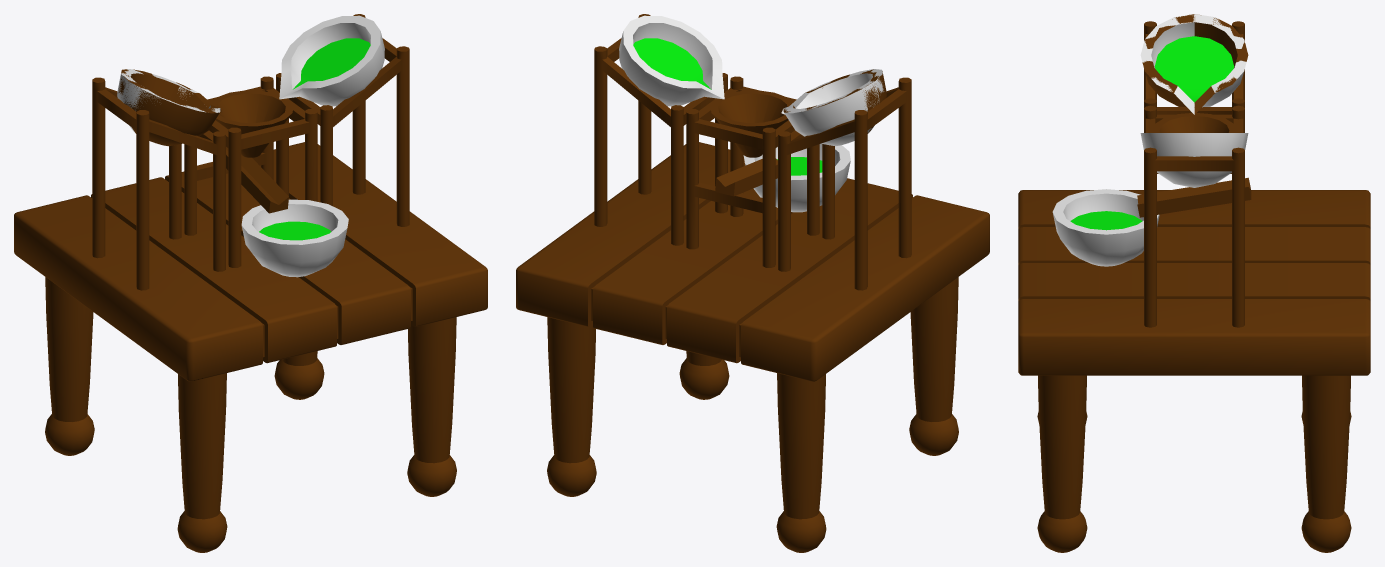
File: Mischstation.fbx
The picture shows the model from 3 angles, left to right: view 1: azimuth 30°, elevation 25°; view 2: azimuth 150°, elevation 25°; view 3: azimuth 270°, elevation 25°; orthographic projection.
Parts seen in each view (by area): view 1: Desk, Holder_Sides, holder_middle, bowl_middle_empty, bowl_right_empty, bowl_right_full, Cylinder, bowl_left_full, connector, bowl_left_empty, bowl_middle_full; view 2: Desk, Holder_Sides, holder_middle, bowl_right_empty, bowl_left_empty, Cylinder, bowl_left_full, bowl_middle_empty, connector, bowl_right_full; view 3: Desk, Holder_Sides, bowl_right_full, bowl_middle_empty, bowl_right_empty, bowl_left_empty, connector, Cylinder, bowl_middle_full, holder_middle.
Boxes of the visible parts, x1,y1,x2,y2 form: Desk: (14, 142, 487, 552); Holder_Sides: (92, 14, 409, 290); holder_middle: (184, 76, 317, 267); bowl_middle_empty: (241, 199, 348, 277); bowl_right_empty: (279, 15, 384, 106); bowl_right_full: (118, 69, 222, 146); Cylinder: (211, 90, 293, 157); bowl_left_full: (292, 38, 370, 89); connector: (226, 147, 288, 213); bowl_left_empty: (117, 69, 220, 132); bowl_middle_full: (259, 221, 330, 240); Desk: (516, 142, 989, 552); Holder_Sides: (594, 14, 911, 290); holder_middle: (686, 76, 819, 267); bowl_right_empty: (619, 15, 724, 106); bowl_left_empty: (781, 69, 884, 146); Cylinder: (710, 90, 792, 157); bowl_left_full: (633, 38, 711, 89); bowl_middle_empty: (743, 143, 850, 212); connector: (715, 158, 777, 196); bowl_right_full: (783, 69, 886, 133); Desk: (1018, 190, 1370, 552); Holder_Sides: (1144, 21, 1244, 327); bowl_right_full: (1142, 14, 1248, 114); bowl_middle_empty: (1052, 189, 1159, 266); bowl_right_empty: (1140, 133, 1248, 187); bowl_left_empty: (1140, 14, 1246, 114); connector: (1137, 177, 1251, 217); Cylinder: (1152, 113, 1236, 132); bowl_middle_full: (1070, 211, 1142, 230); holder_middle: (1144, 105, 1244, 132).
Size of the model in its own units: 197 by 264 by 200.
